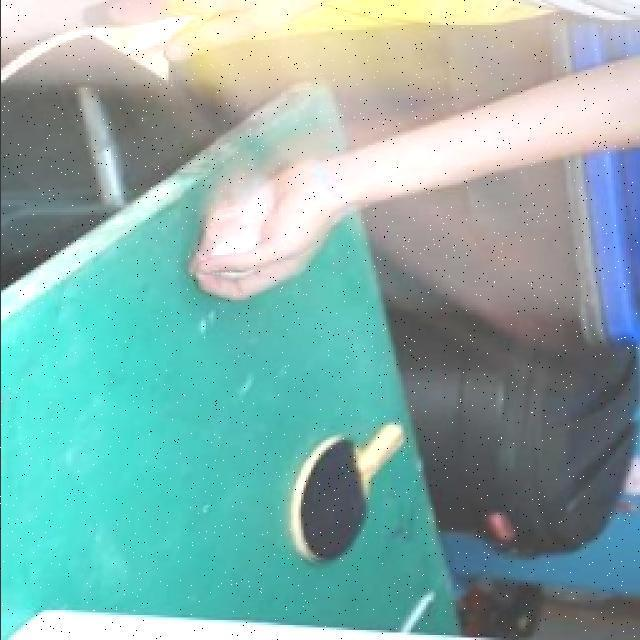ping-pong-ball: (206, 240, 260, 280)
